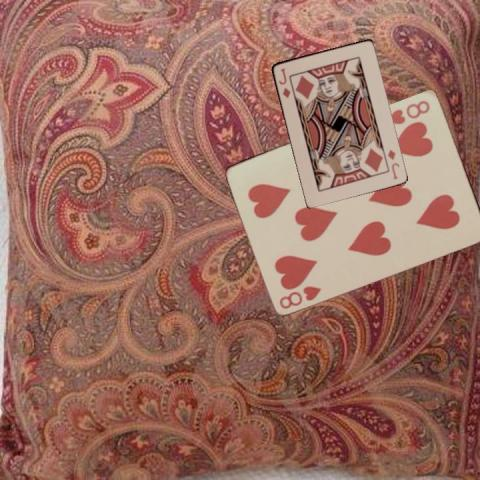8h: (384, 97, 432, 125), (276, 282, 323, 310)
Jd: (384, 146, 401, 181), (275, 66, 292, 100)
